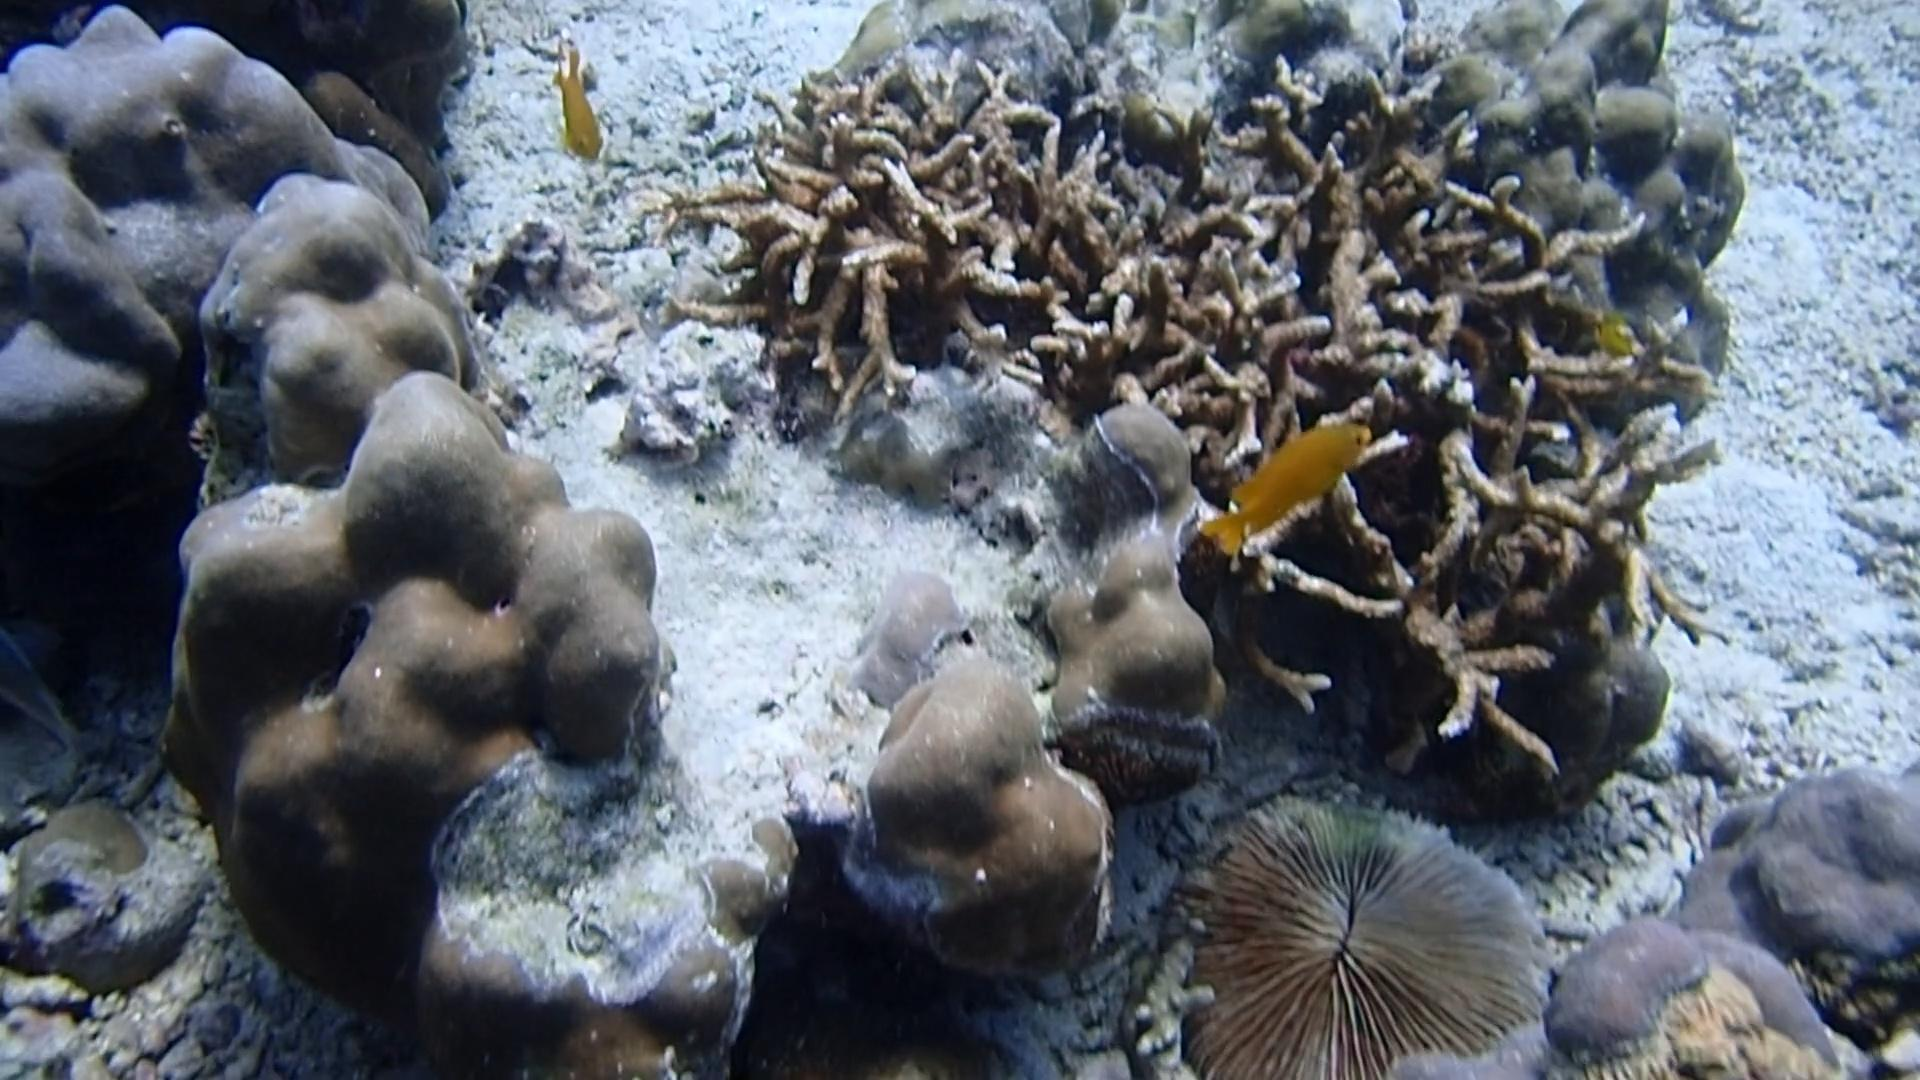Yellow Fish: (1196, 413, 1371, 562), (539, 41, 612, 174), (1589, 319, 1636, 365)
